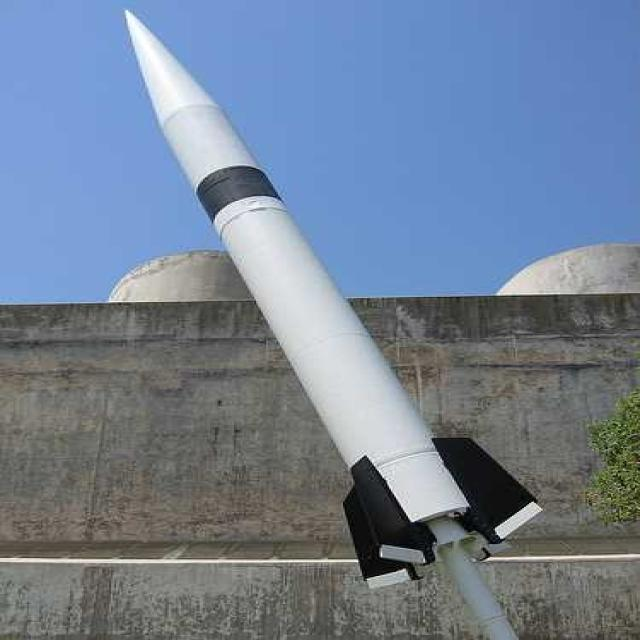missile: (120, 5, 524, 568)
